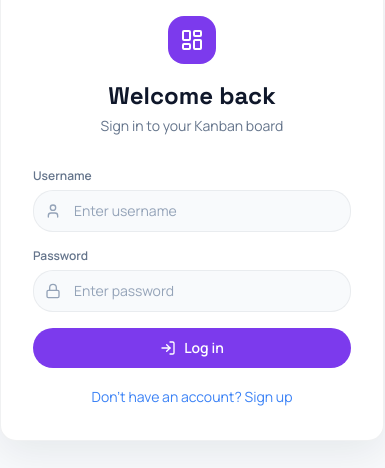
it: LoginForm › toggles back to login mode
Click the button "Don't have an account? Sign up": (192, 397) [92,387,292,407]
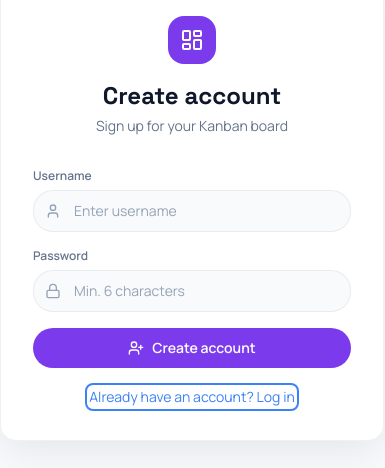
Now the button "Create account" is shown, box [33,328,351,368]
Click the button "Already have an account? Log in": (192, 397) [89,387,295,407]
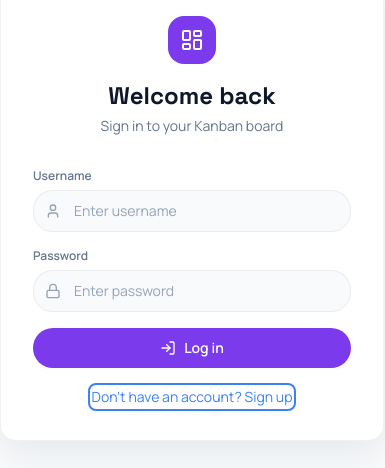
Now the button "Log in" is shown, box [33,328,351,368]
